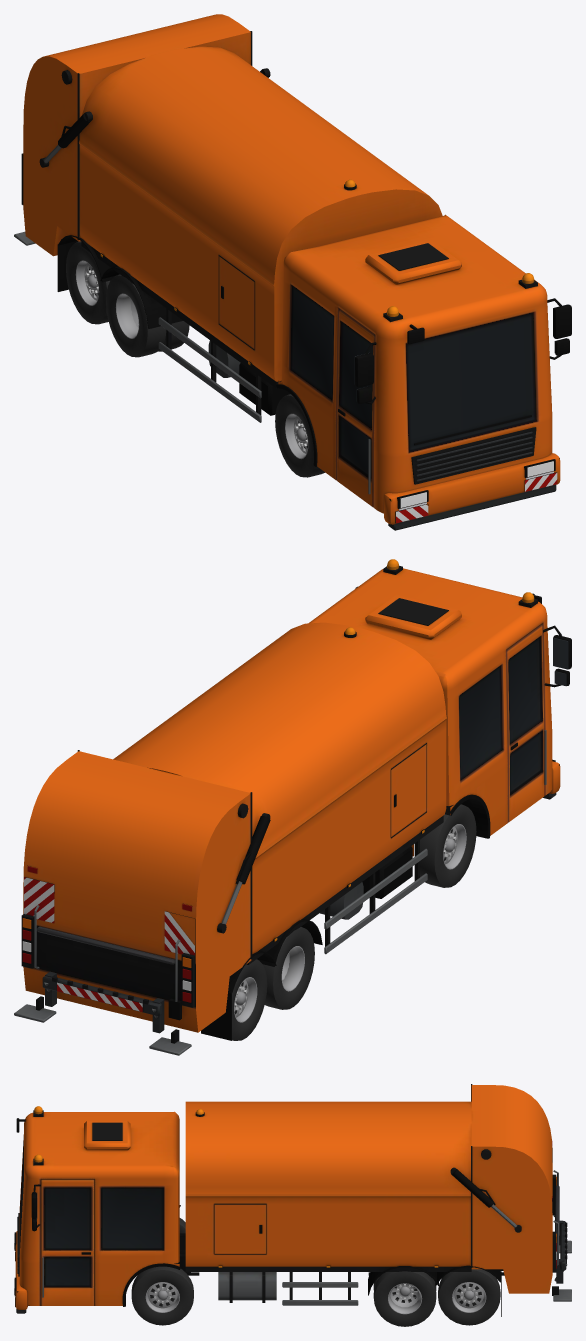
Rendered from muell.glb.
3 renders of one model, top to bottom at view 1: azimuth 30°, elevation 25°; view 2: azimuth 150°, elevation 25°; view 3: azimuth 270°, elevation 25°, orthographic. The views are drawn at different scales.
Visible parts, largest first — view 1: koerper, rad_hr_gummi, rad_hr2_gummi, rad_vr_gummi, rad_vr_metall, rad_hr_metall, rad_hr2_metall; view 2: koerper, rad_vr_gummi, rad_hr_gummi, rad_hr2_gummi, rad_hr_metall, rad_vr_metall, rad_hr2_metall; view 3: koerper, rad_vl_gummi, rad_hl2_gummi, rad_hl_gummi, rad_hl_metall, rad_hl2_metall, rad_vl_metall.
Boxes of the visible parts, x1,y1,x2,y2 form: koerper: [14, 14, 571, 530]; rad_hr_gummi: [106, 274, 166, 357]; rad_hr2_gummi: [66, 241, 109, 324]; rad_vr_gummi: [275, 394, 324, 477]; rad_vr_metall: [285, 413, 308, 459]; rad_hr_metall: [115, 293, 139, 338]; rad_hr2_metall: [75, 260, 99, 305]; koerper: [14, 559, 571, 1055]; rad_vr_gummi: [420, 804, 476, 887]; rad_hr_gummi: [263, 927, 314, 1009]; rad_hr2_gummi: [232, 959, 267, 1040]; rad_hr_metall: [281, 946, 304, 991]; rad_vr_metall: [443, 824, 466, 869]; rad_hr2_metall: [234, 977, 257, 1022]; koerper: [14, 1084, 571, 1316]; rad_vl_gummi: [131, 1266, 193, 1325]; rad_hl2_gummi: [438, 1269, 500, 1325]; rad_hl_gummi: [373, 1271, 436, 1326]; rad_hl_metall: [388, 1283, 422, 1314]; rad_hl2_metall: [452, 1282, 486, 1312]; rad_vl_metall: [145, 1282, 179, 1312].
Size of the model in its own units: 3.12 by 3.56 by 9.56.
3 materials, 1 textured.
